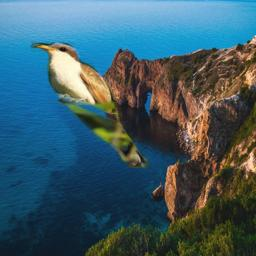Cuckoo: (30, 40, 150, 170)
